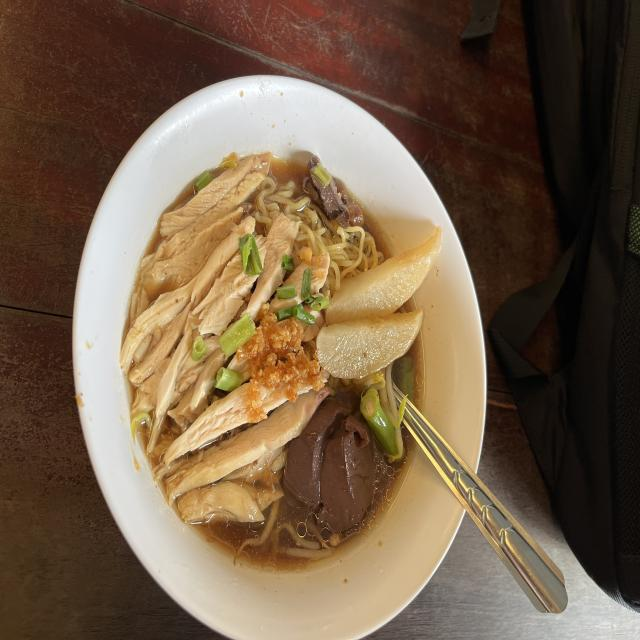boiled_chicken_blood_jelly: (300, 401, 364, 507)
chicken_shredded: (131, 166, 298, 509)
daikon_radish: (328, 229, 443, 320), (318, 313, 427, 370)
noodle: (114, 142, 460, 577)
